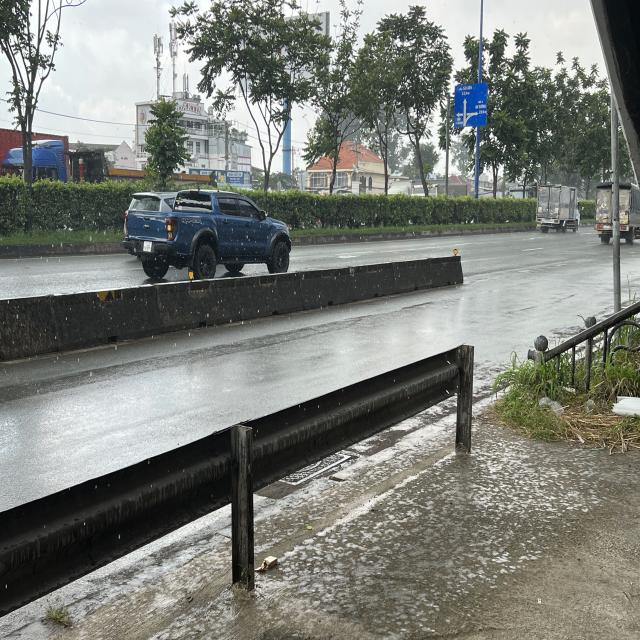car: (124, 189, 296, 282)
truck: (594, 180, 640, 243), (535, 186, 579, 234)
